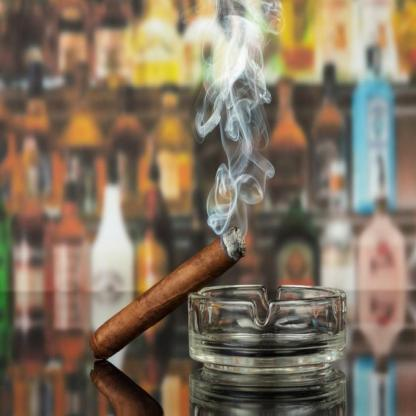smoke: (193, 2, 293, 243)
